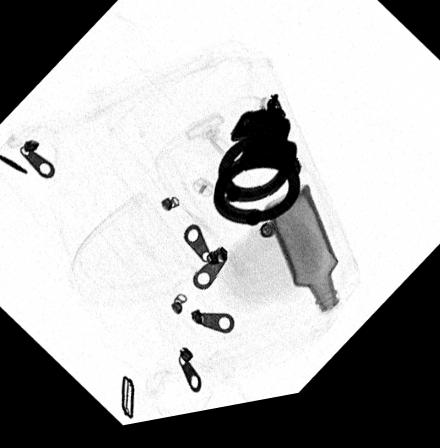HandCuffs: (210, 101, 300, 240)
